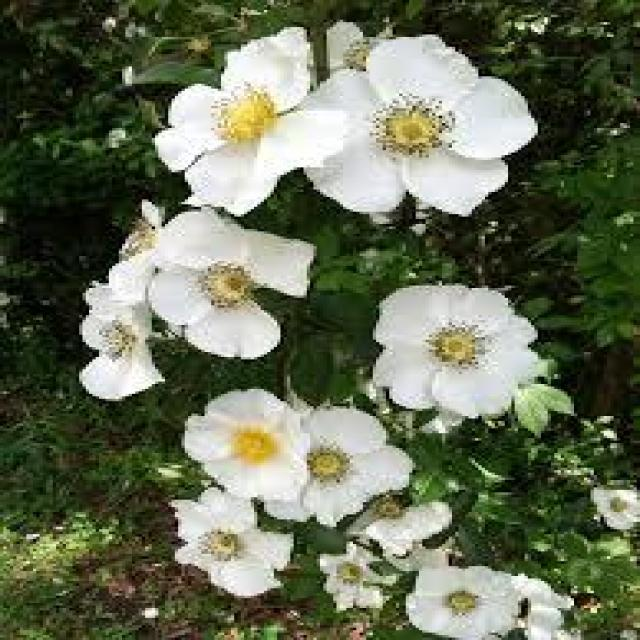organic waste: (288, 33, 542, 218), (153, 32, 335, 212), (140, 210, 328, 360), (366, 282, 538, 420), (239, 405, 411, 525), (69, 232, 178, 398), (171, 486, 297, 597), (187, 386, 306, 499), (409, 566, 521, 635), (351, 500, 454, 551), (322, 544, 394, 610), (589, 480, 638, 529)
